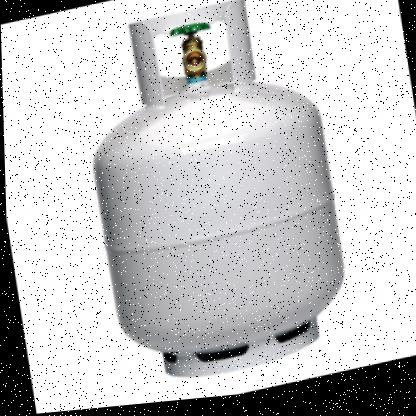gas-tank: (64, 0, 368, 410)
